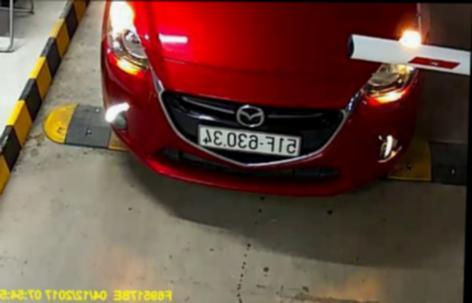License_Plate: (194, 126, 304, 157)
